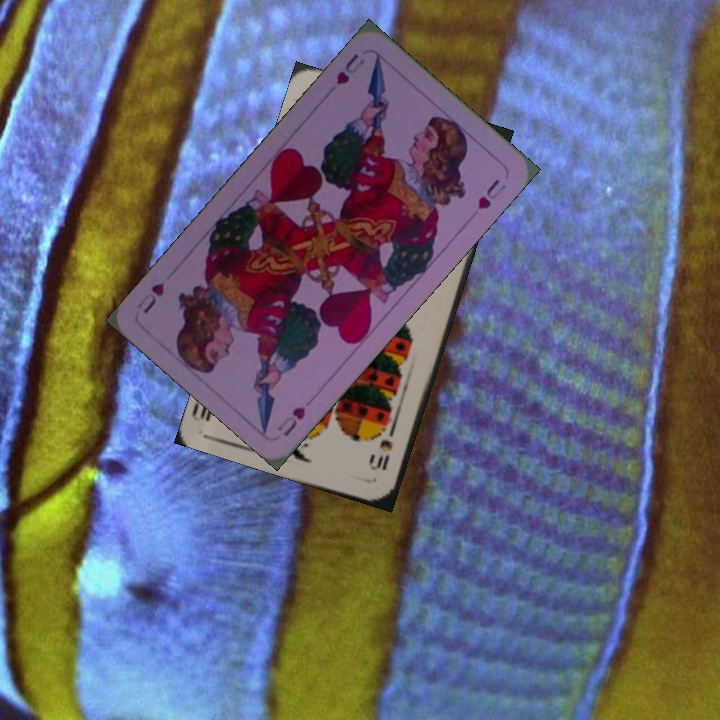HU: (273, 402, 309, 439), (332, 50, 367, 88)
S10: (368, 423, 398, 474)
